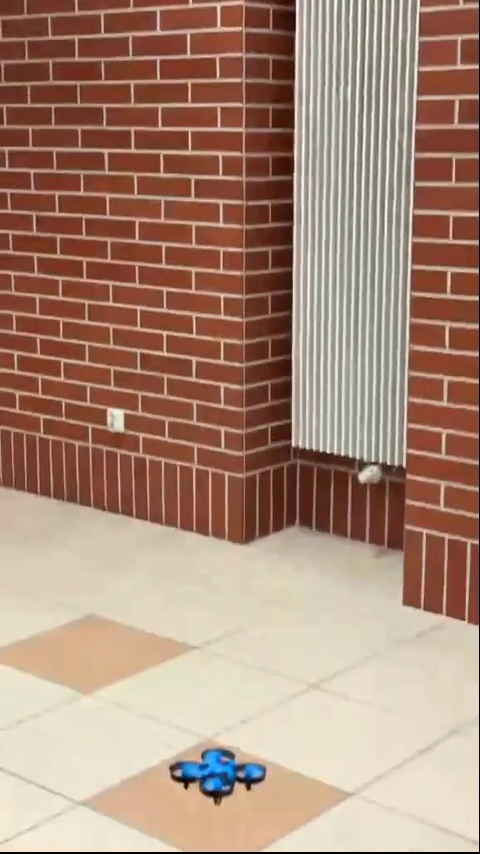drone: (163, 747, 270, 804)
